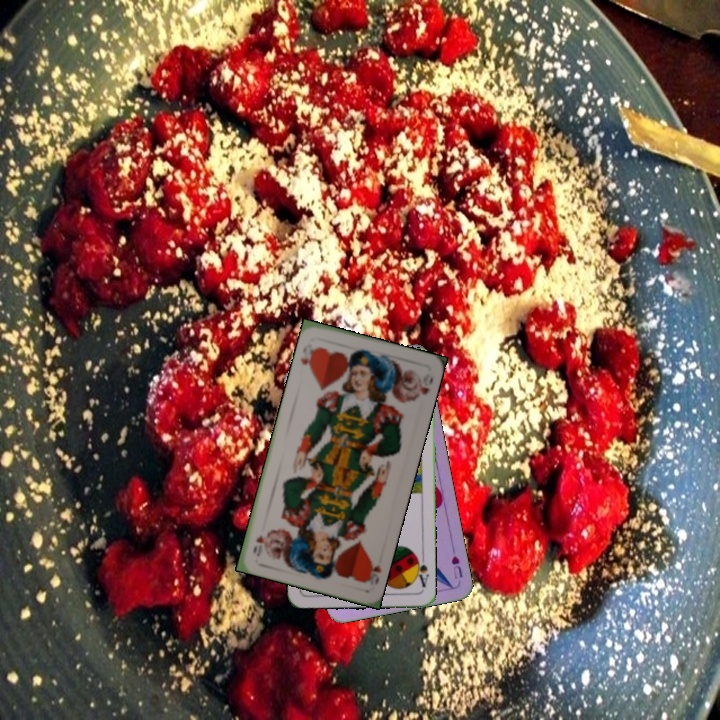HO: (296, 342, 320, 376), (361, 557, 384, 587)
HU: (447, 552, 465, 581)
SA: (411, 551, 431, 590)
